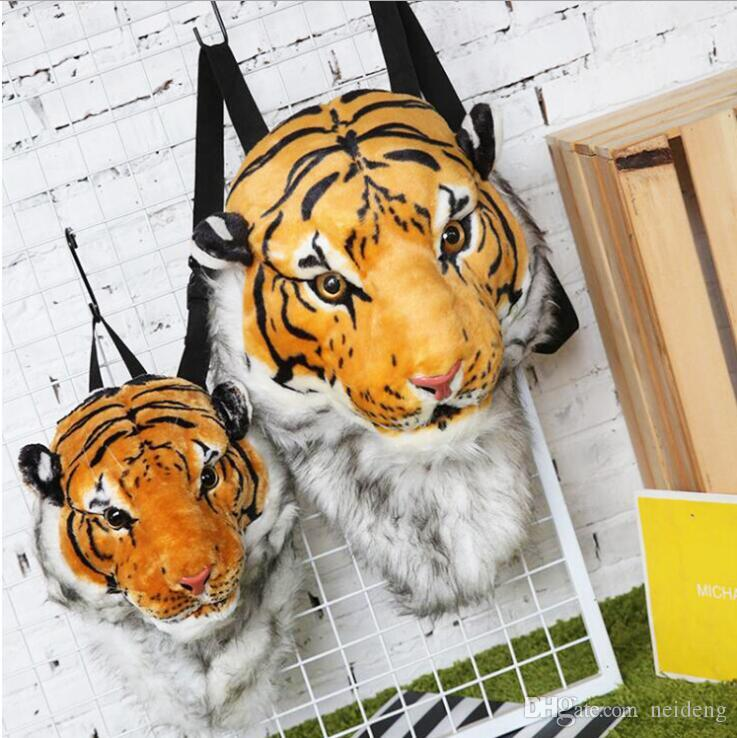Tigrew: (125, 111, 615, 479), (6, 351, 300, 679)
